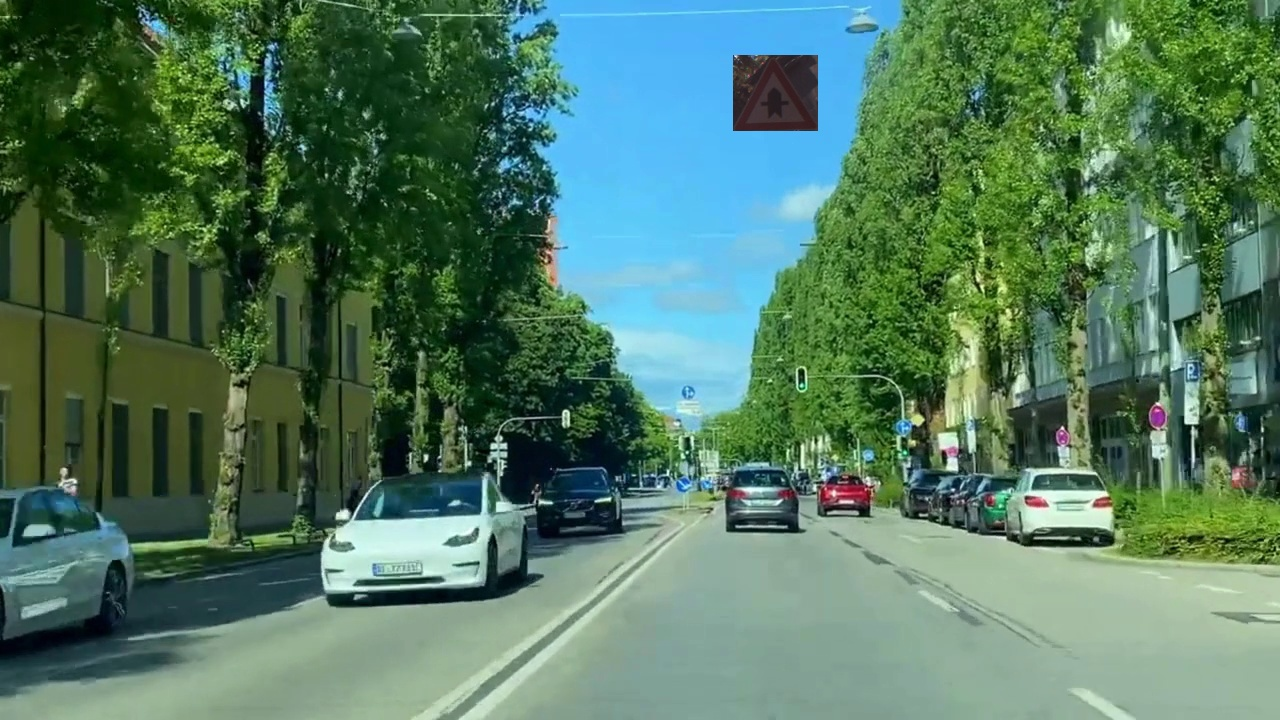Right-of-way: (733, 55, 818, 131)
